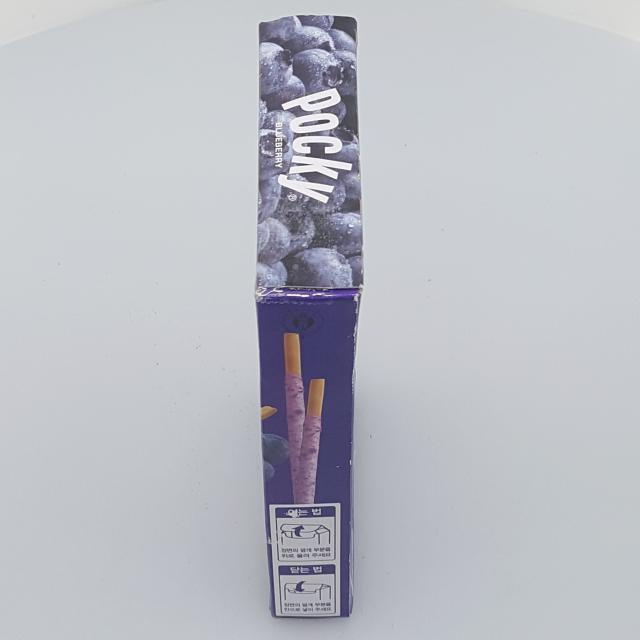-41G: (255, 16, 365, 620)
